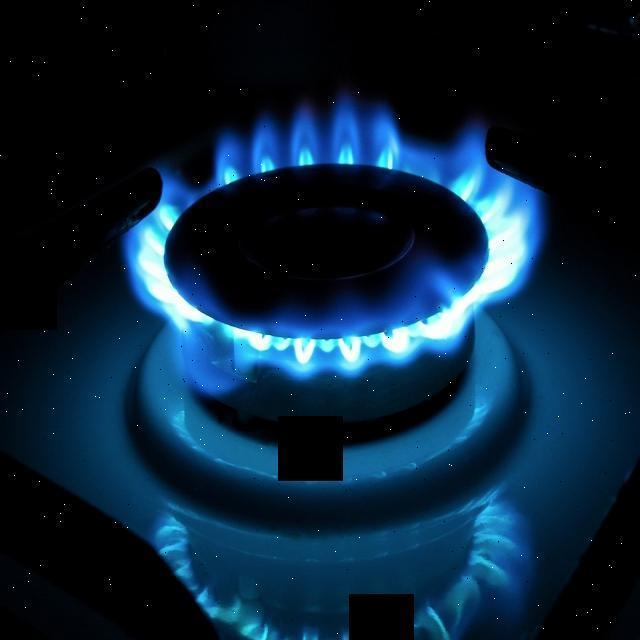Flame: (86, 98, 568, 438)
